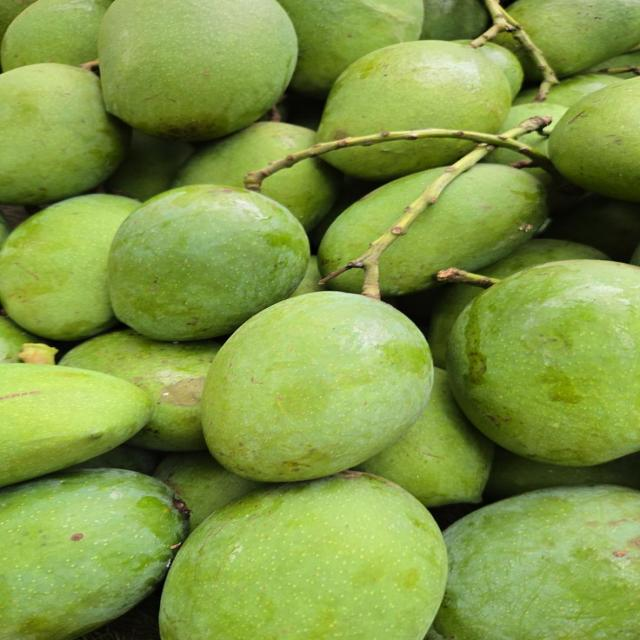mango: (160, 472, 446, 639), (203, 292, 433, 481), (447, 260, 639, 466), (428, 485, 639, 639), (0, 469, 186, 639), (109, 185, 309, 340), (99, 0, 297, 140), (380, 164, 546, 295), (0, 194, 139, 340), (318, 41, 511, 141), (60, 330, 219, 450), (357, 369, 493, 507), (0, 364, 152, 486), (0, 64, 127, 204), (280, 0, 424, 97), (549, 77, 639, 202), (508, 0, 639, 77), (174, 122, 315, 187), (154, 452, 264, 530), (0, 0, 112, 71), (485, 448, 639, 499), (544, 195, 639, 261), (106, 130, 193, 201), (481, 239, 607, 278), (503, 101, 567, 155), (66, 444, 160, 474), (421, 0, 488, 40), (475, 42, 523, 96), (546, 73, 620, 107), (0, 316, 38, 363), (0, 0, 35, 41), (290, 256, 324, 297), (589, 50, 639, 72)
